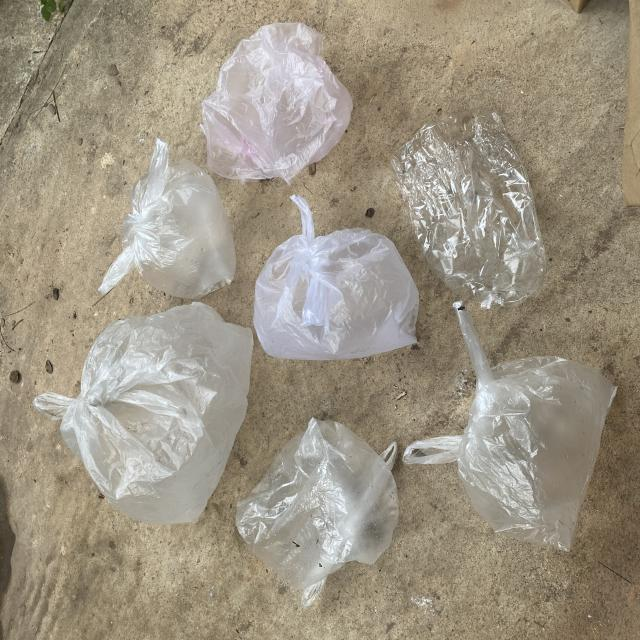Single-layer Plastic: (402, 301, 616, 550), (34, 302, 252, 524), (391, 110, 546, 309), (236, 419, 399, 605), (254, 195, 419, 360), (201, 22, 352, 185), (99, 139, 235, 299)
